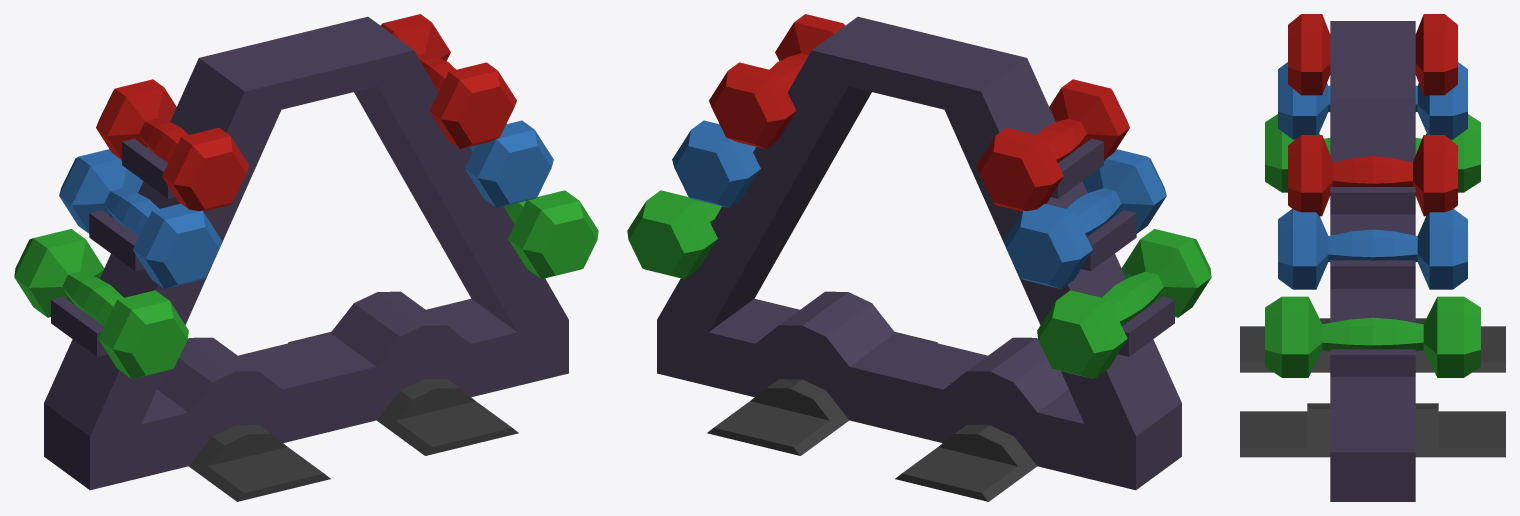
The model's file is dumble_stand.fbx.
3 renders of one model, left to right at view 1: azimuth 30°, elevation 25°; view 2: azimuth 150°, elevation 25°; view 3: azimuth 270°, elevation 25°, orthographic. The views are drawn at different scales.
Parts seen in each view (by area): view 1: dumble_stand; view 2: dumble_stand; view 3: dumble_stand.
Boxes of the visible parts, x1,y1,x2,y2 form: dumble_stand: (14,14,598,501); dumble_stand: (627,14,1211,501); dumble_stand: (1240,14,1505,501).
Bounding box in the file's own units: 4.33 × 3.07 × 2.21.
